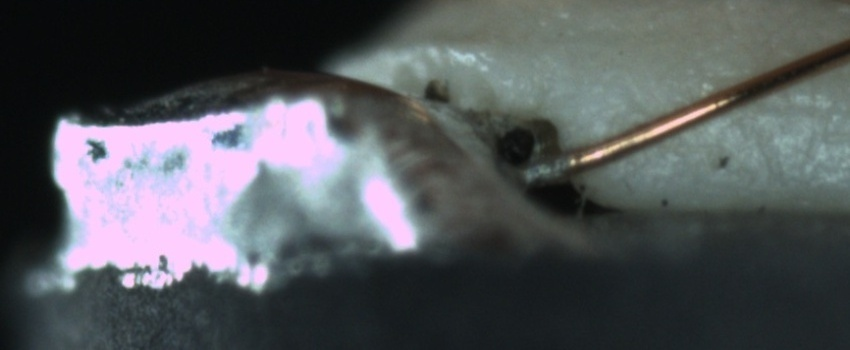DL: (711, 81, 847, 141)
TS: (520, 154, 570, 186)
